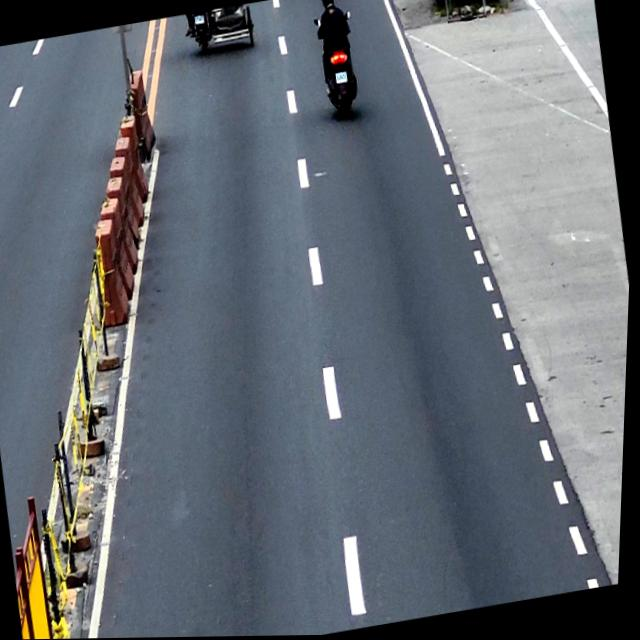License-Plate: (335, 72, 348, 86), (194, 15, 206, 25)
Motorcycle: (310, 10, 367, 120)
Tricycle: (188, 4, 258, 60)
